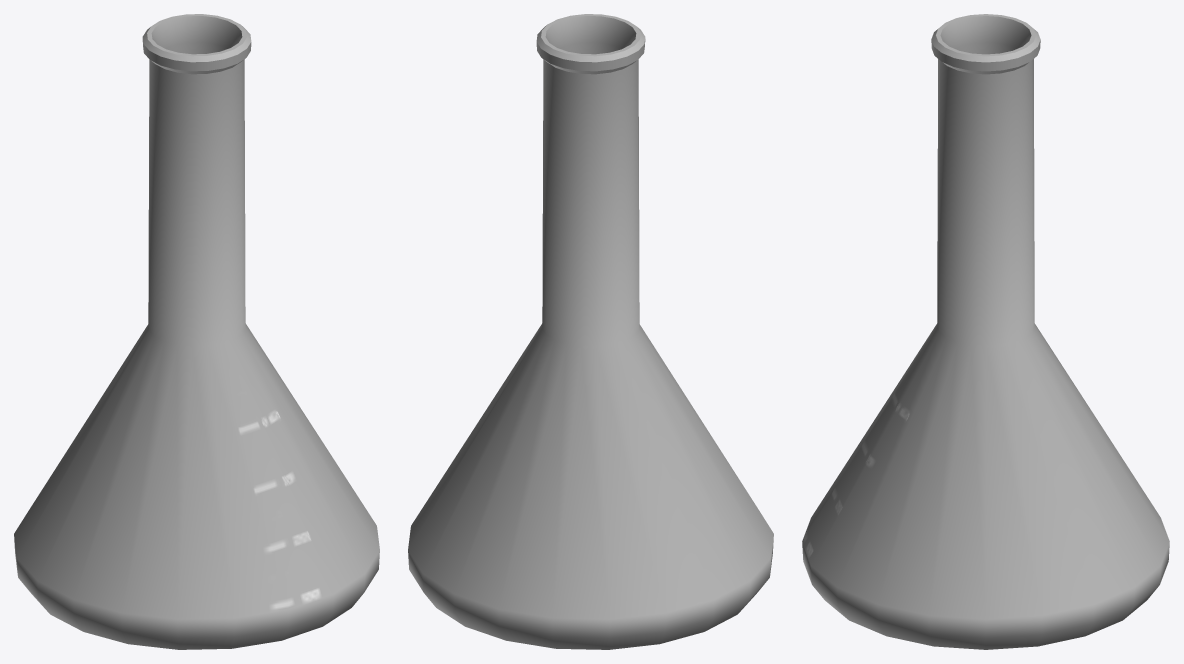
The model's file is lab_frasco_triangular.fbx.
3 views of the same model, side by side, from view 1: azimuth 30°, elevation 25°; view 2: azimuth 150°, elevation 25°; view 3: azimuth 270°, elevation 25° (orthographic).
Parts seen in each view (by area): view 1: lab_frasco_triangular; view 2: lab_frasco_triangular; view 3: lab_frasco_triangular.
Part boxes in pixels (<box>): lab_frasco_triangular: <box>14,14,379,649</box>; lab_frasco_triangular: <box>408,14,773,649</box>; lab_frasco_triangular: <box>802,14,1169,649</box>.
Bounding box in the file's own units: 50.06 × 81.92 × 50.06.
1 material, 1 textured.
